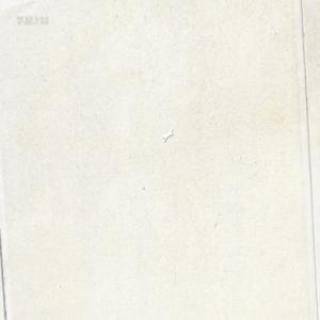Wrenchtrack_idkeyframe: (161, 128, 173, 142)
